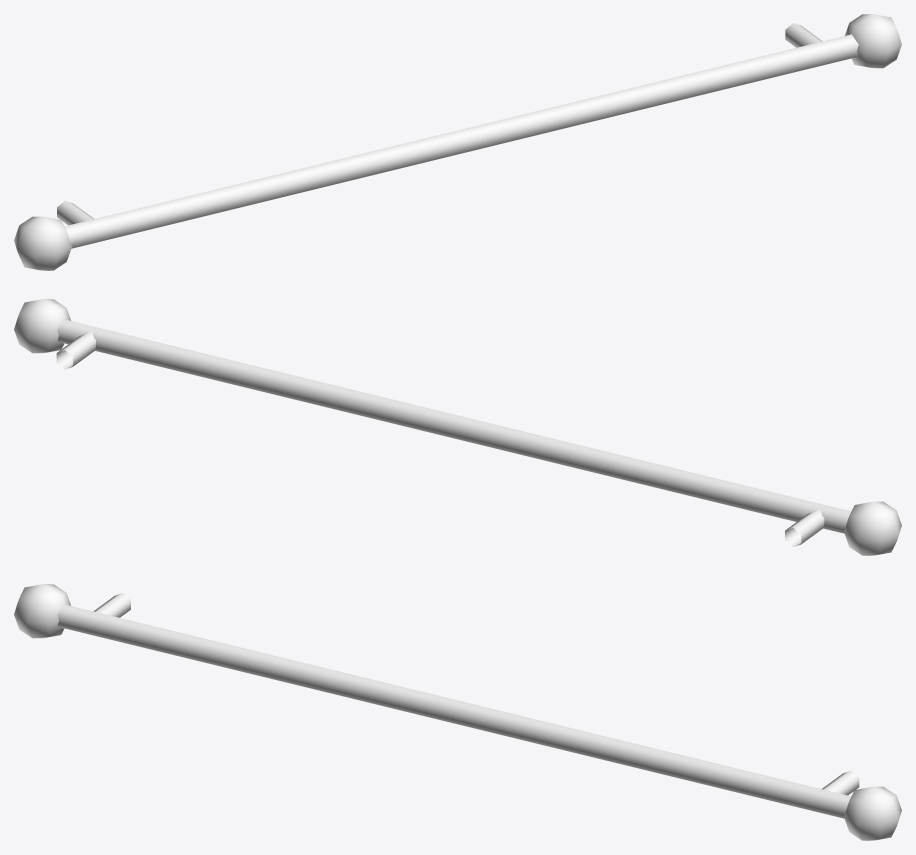
Rendered from curtain_016.fbx.
3 views of the same model, one above another, from view 1: azimuth 30°, elevation 25°; view 2: azimuth 150°, elevation 25°; view 3: azimuth 330°, elevation 25° (orthographic).
Visible parts, largest first — view 1: curtain_016; view 2: curtain_016; view 3: curtain_016.
Part boxes in pixels (<box>): curtain_016: <box>14,14,901,270</box>; curtain_016: <box>14,299,901,555</box>; curtain_016: <box>14,584,901,840</box>.
Bounding box in the file's own units: 380 × 32.67 × 22.38.
